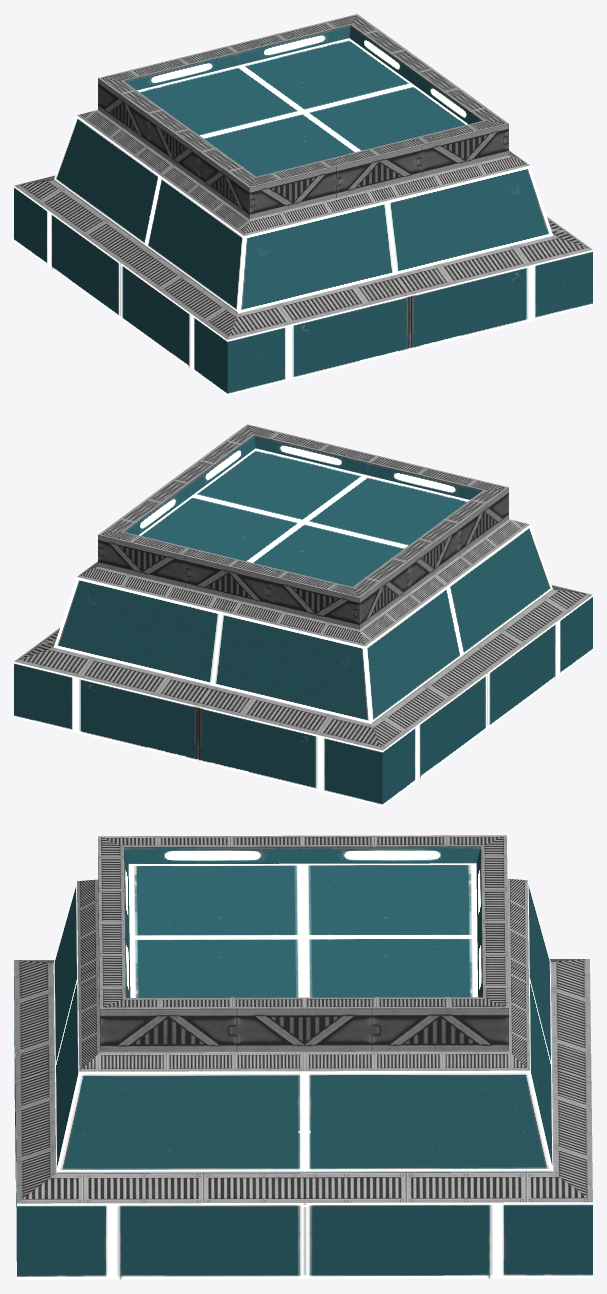
File: ARC1110030.fbx
The picture shows the model from 3 angles, top to bottom: view 1: azimuth 30°, elevation 25°; view 2: azimuth 150°, elevation 25°; view 3: azimuth 270°, elevation 25°; orthographic projection. The views are drawn at different scales.
Visible parts, largest first — view 1: smARC1110030; view 2: smARC1110030; view 3: smARC1110030.
Boxes of the visible parts, x1=… form: smARC1110030: x1=14, y1=14, x2=592, y2=395; smARC1110030: x1=14, y1=424, x2=592, y2=806; smARC1110030: x1=14, y1=835, x2=592, y2=1279.
Size of the model in its own units: 230 by 103 by 230.
Materials: 1 (1 with a texture image).
